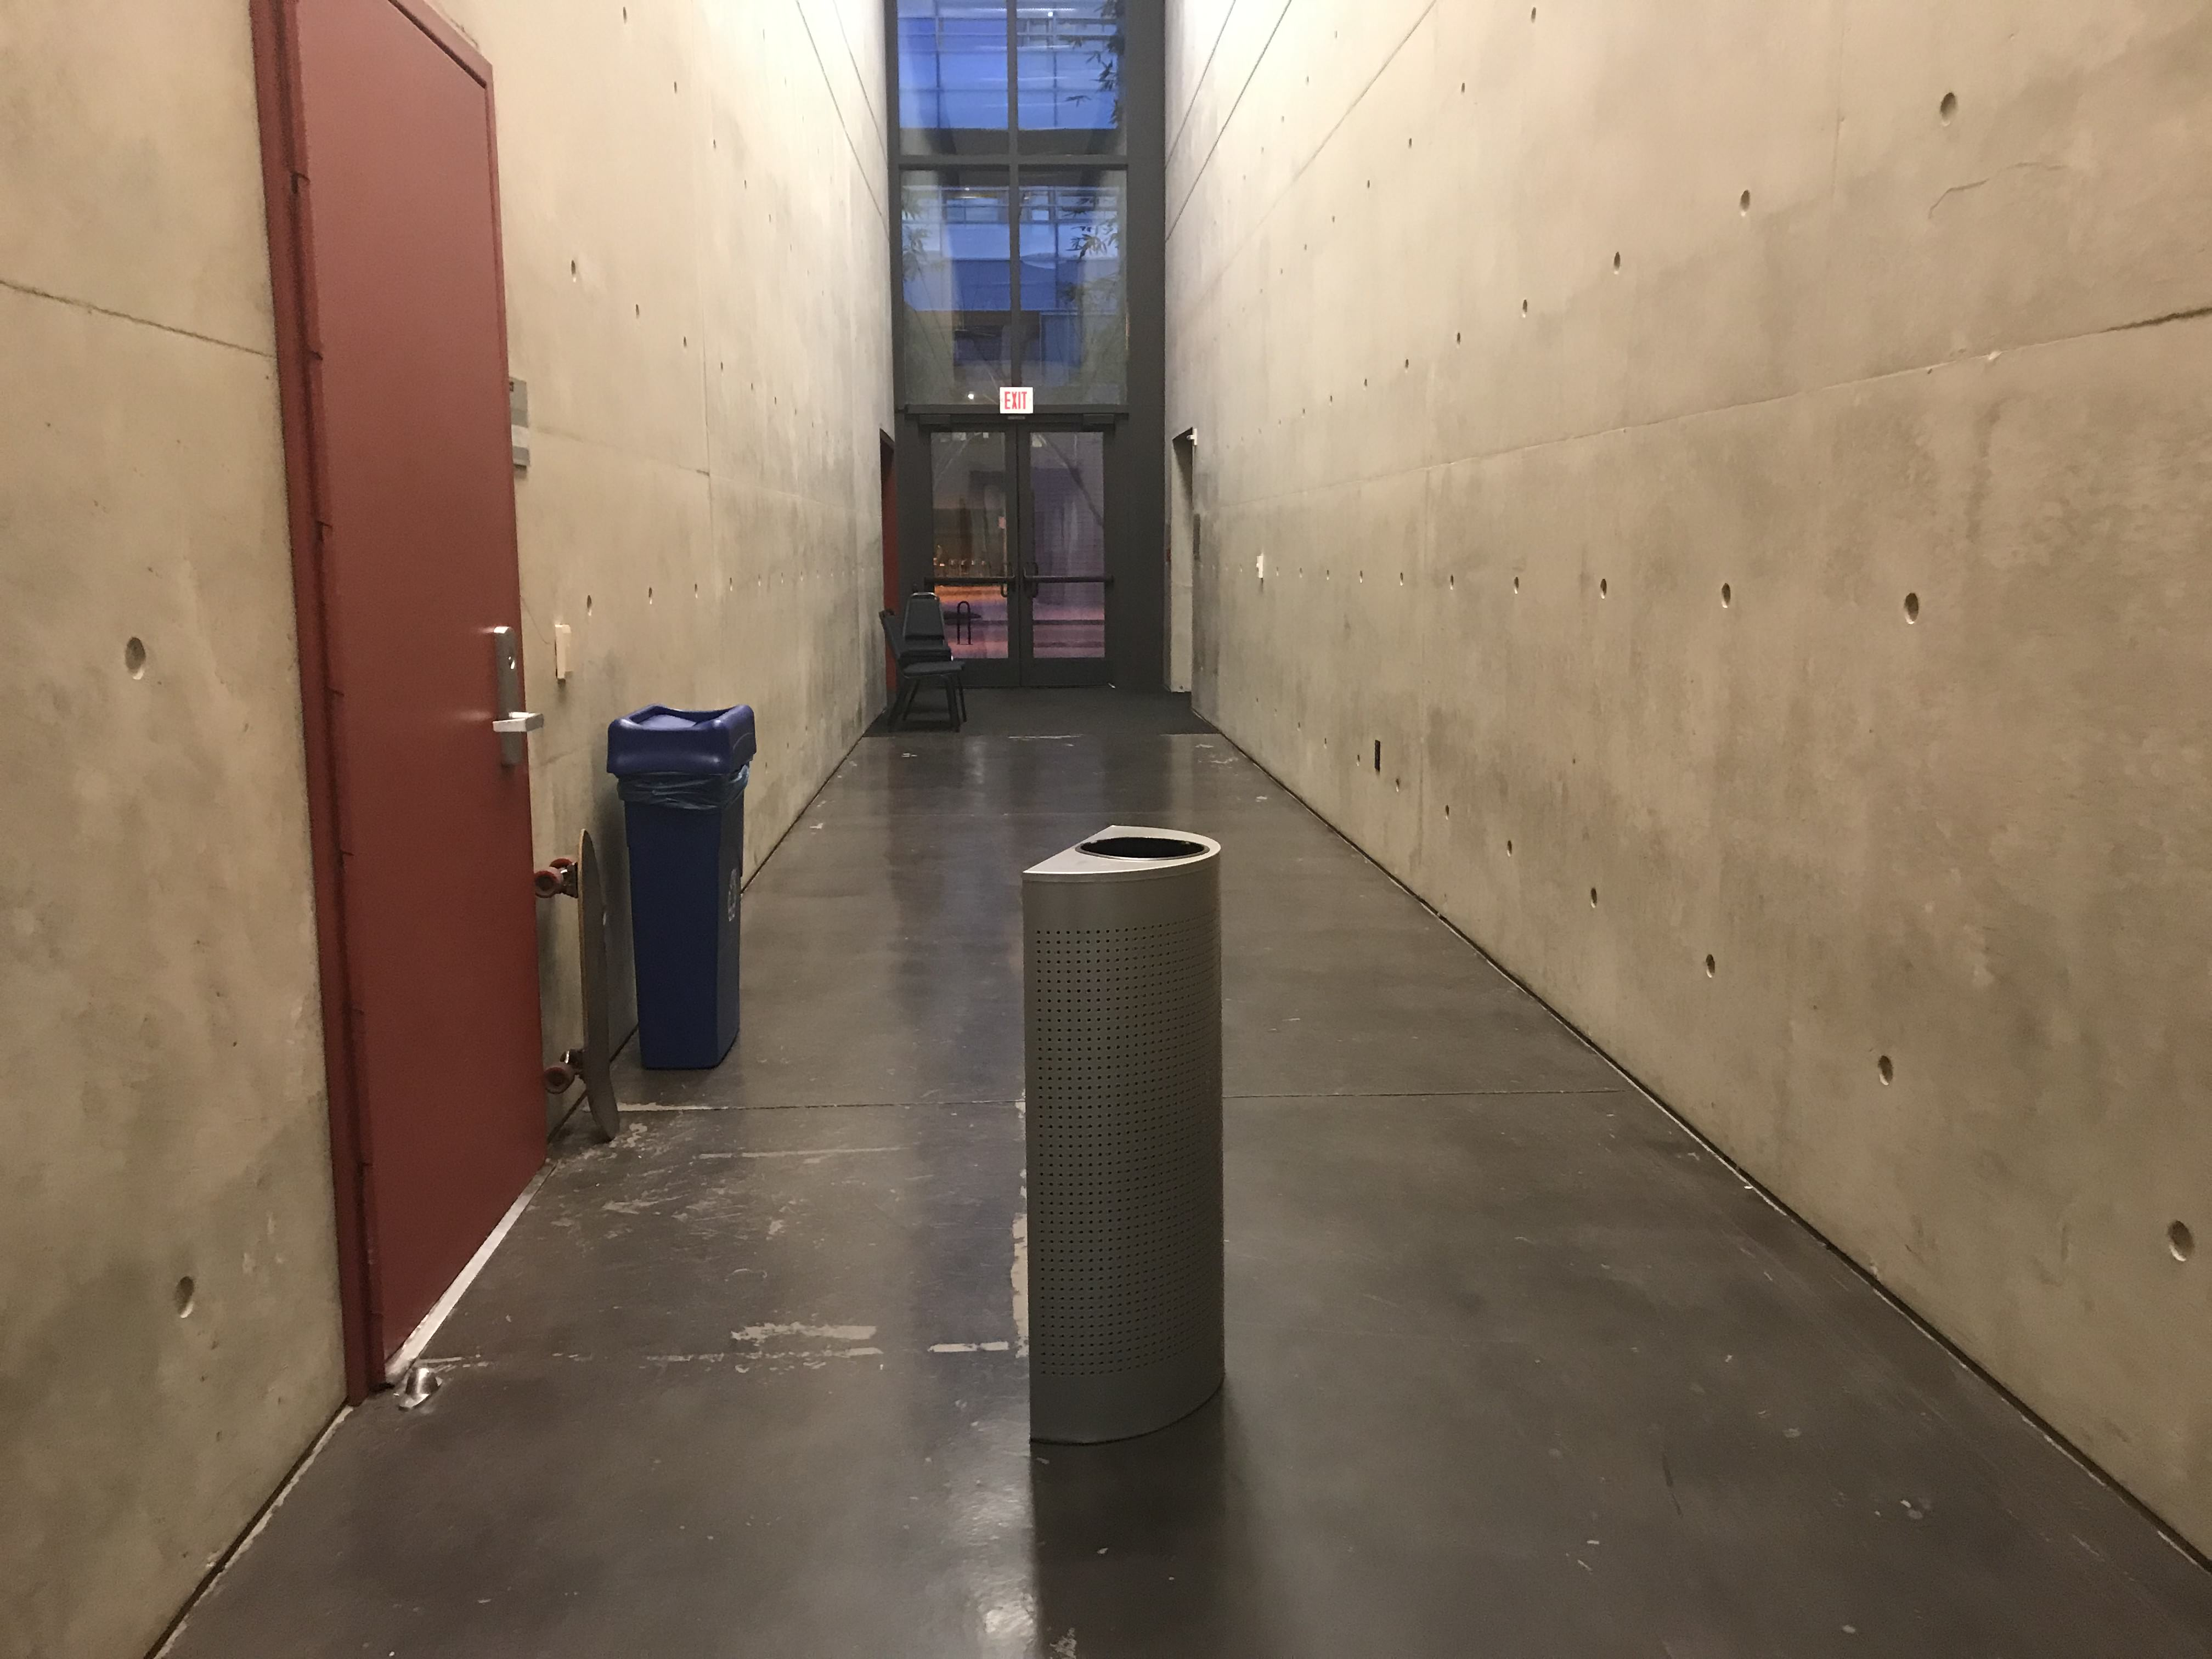Obstacle: (1193, 5, 2207, 1561), (2, 7, 906, 1656), (1010, 830, 1224, 1429), (615, 713, 759, 1080)
